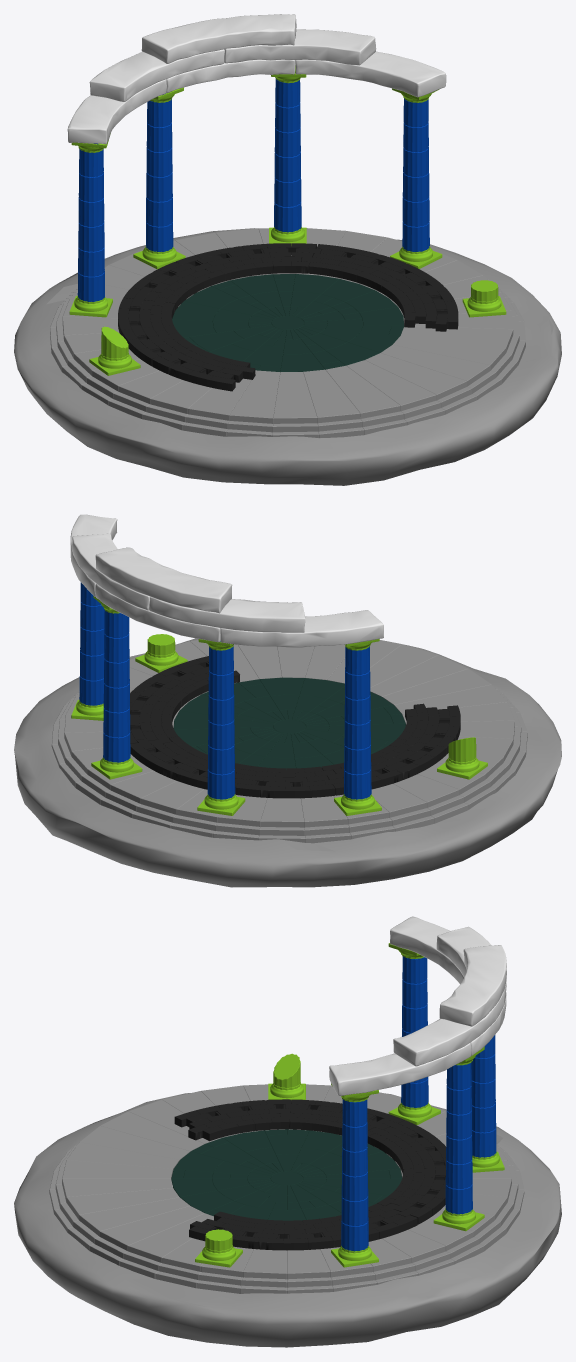
3 views of the same model, one above another, from view 1: azimuth 30°, elevation 25°; view 2: azimuth 150°, elevation 25°; view 3: azimuth 270°, elevation 25° (orthographic).
Visible parts, largest first — view 1: FloorSteps, Isla-Simple, Box008, FloorInner, Xol-Platf, Bricks3, Bricks2, Bricks1, Column004, Column3, Column2, Column1; view 2: FloorSteps, Isla-Simple, Box008, FloorInner, Xol-Platf, Bricks2, Bricks1, Bricks3, Column2, Column1, Column3, Column004; view 3: FloorSteps, Isla-Simple, FloorInner, Box008, Xol-Platf, Bricks1, Bricks3, Bricks2, Column004, Column3, Column2, Column1.
Part boxes in pixels (x1=…): FloorSteps: x1=50, y1=228, x2=525, y2=438; Isla-Simple: x1=14, y1=228, x2=561, y2=485; Box008: x1=67, y1=14, x2=446, y2=144; FloorInner: x1=172, y1=274, x2=404, y2=372; Xol-Platf: x1=69, y1=65, x2=506, y2=375; Bricks3: x1=301, y1=244, x2=458, y2=331; Bricks2: x1=123, y1=243, x2=321, y2=310; Bricks1: x1=118, y1=296, x2=255, y2=391; Column004: x1=402, y1=98, x2=429, y2=251; Column3: x1=274, y1=78, x2=301, y2=232; Column2: x1=146, y1=94, x2=173, y2=251; Column1: x1=77, y1=143, x2=104, y2=301; FloorSteps: x1=51, y1=640, x2=527, y2=843; Isla-Simple: x1=14, y1=638, x2=561, y2=887; Box008: x1=70, y1=514, x2=383, y2=647; FloorInner: x1=173, y1=677, x2=405, y2=769; Xol-Platf: x1=71, y1=596, x2=487, y2=815; Bricks2: x1=130, y1=736, x2=335, y2=798; Bricks1: x1=321, y1=703, x2=460, y2=795; Bricks3: x1=130, y1=656, x2=239, y2=743; Column2: x1=207, y1=641, x2=235, y2=799; Column1: x1=344, y1=646, x2=371, y2=799; Column3: x1=103, y1=610, x2=130, y2=762; Column004: x1=79, y1=582, x2=104, y2=705; FloorSteps: x1=49, y1=1084, x2=524, y2=1293; Isla-Simple: x1=14, y1=1093, x2=561, y2=1347; FloorInner: x1=171, y1=1129, x2=402, y2=1220; Box008: x1=329, y1=916, x2=506, y2=1096; Xol-Platf: x1=195, y1=943, x2=504, y2=1267; Bricks1: x1=174, y1=1099, x2=404, y2=1142; Bricks3: x1=189, y1=1203, x2=417, y2=1250; Bricks2: x1=368, y1=1120, x2=446, y2=1224; Column004: x1=341, y1=1099, x2=368, y2=1251; Column3: x1=445, y1=1063, x2=472, y2=1214; Column2: x1=471, y1=1035, x2=496, y2=1157; Column1: x1=401, y1=956, x2=428, y2=1107.
Bounding box in the file's own units: 874 × 490 × 873.
